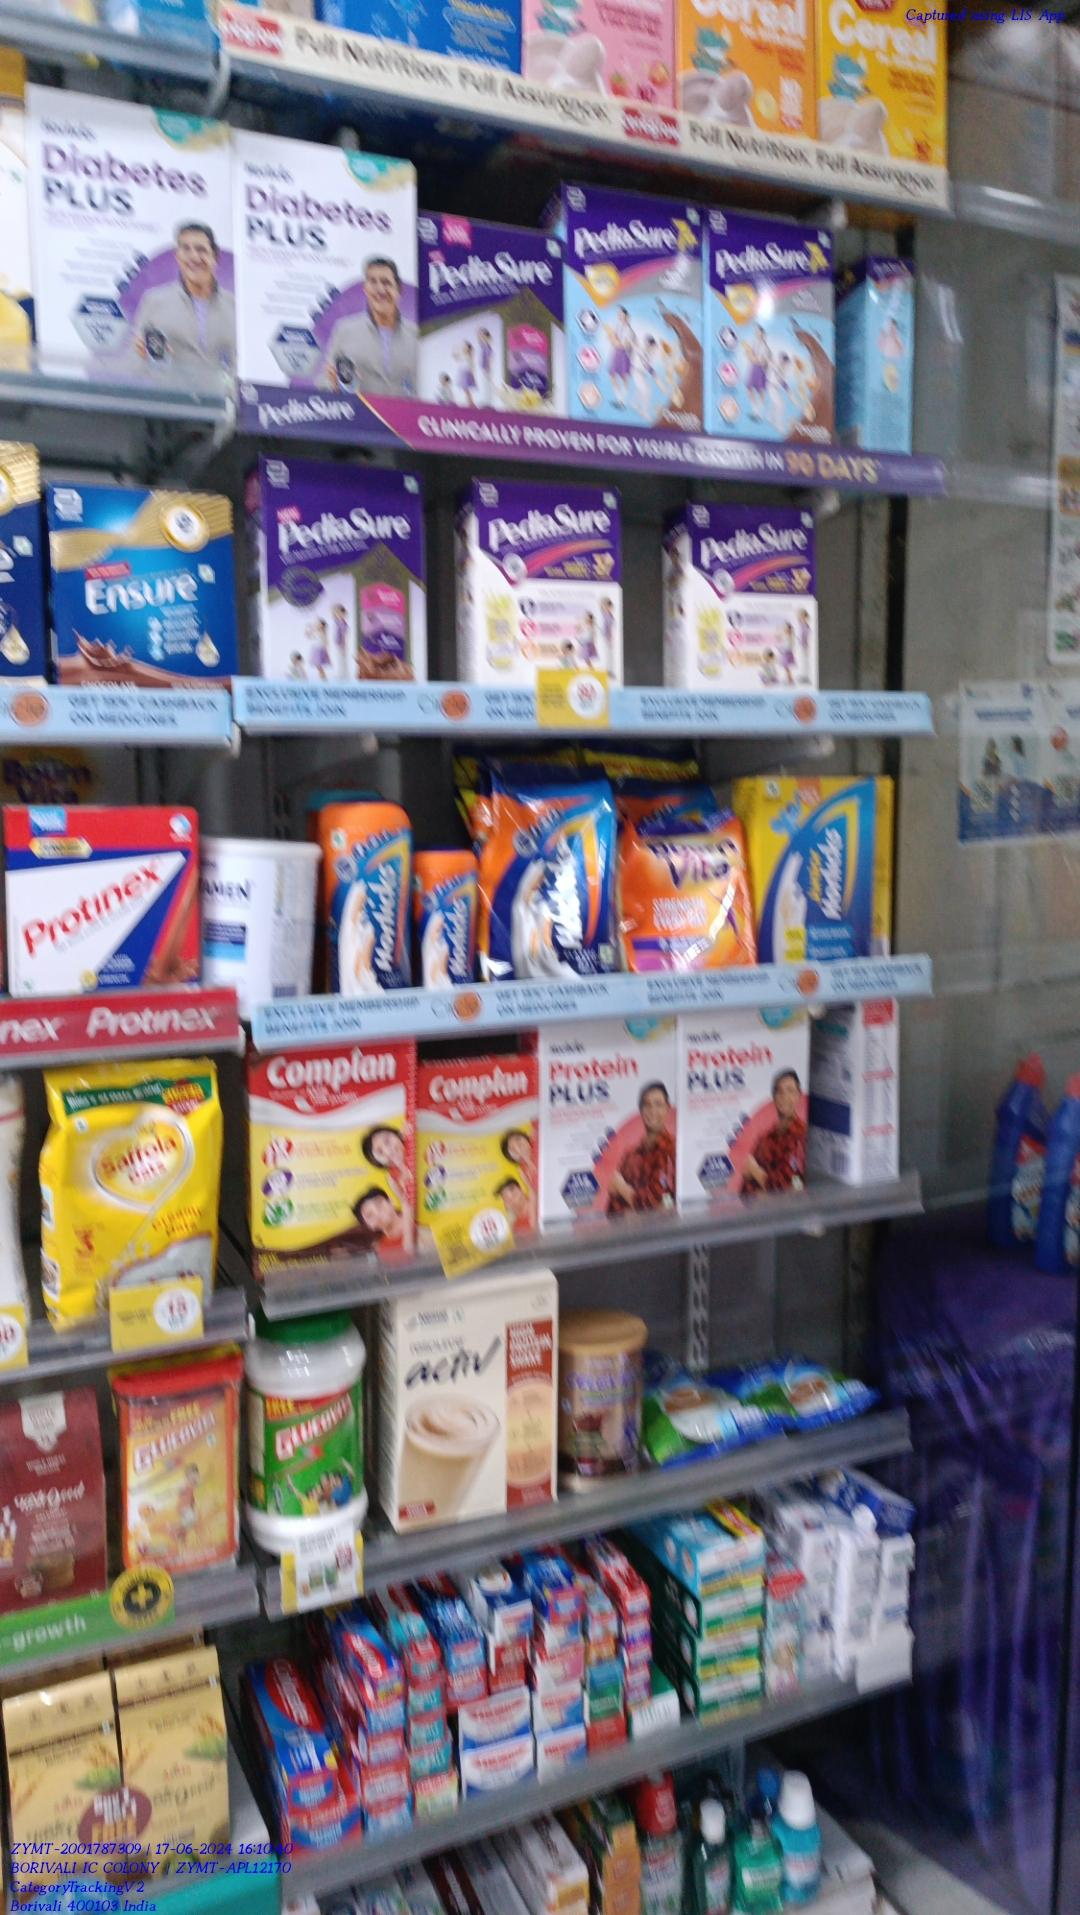BOURN_VITA_500_G_POUCH: (618, 805, 746, 965)
COMPLAN_CHOCOLATE_500_GMS_PACK: (251, 1042, 414, 1274)
COMPLAN_KESAR_BADAM_200_GMS_PACK: (418, 1056, 533, 1251)
HORLICK_CLASSIC_MALT_200_G_JAR: (413, 848, 478, 989)
HORLICK_CLASSIC_MALT_500_G_JAR: (324, 796, 408, 993)
HORLICK_CLASSIC_MALT_750_G_POUCH: (484, 780, 612, 971)
PEDIASURE_7_PLUS_CHOCOLATE_400_G_PACK: (706, 212, 838, 441), (567, 196, 696, 422)
PEDIASURE_CHOCOLATE_500_G_PACK: (263, 467, 428, 688)
PROTINEX_CHOCOLATE_400_G_JAR: (11, 805, 191, 996)
